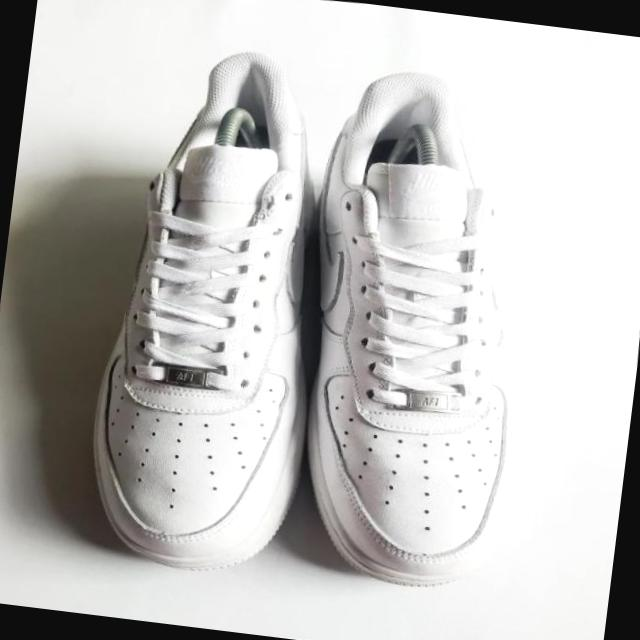nike_fake_airforce: (268, 45, 570, 599), (58, 31, 347, 580)
